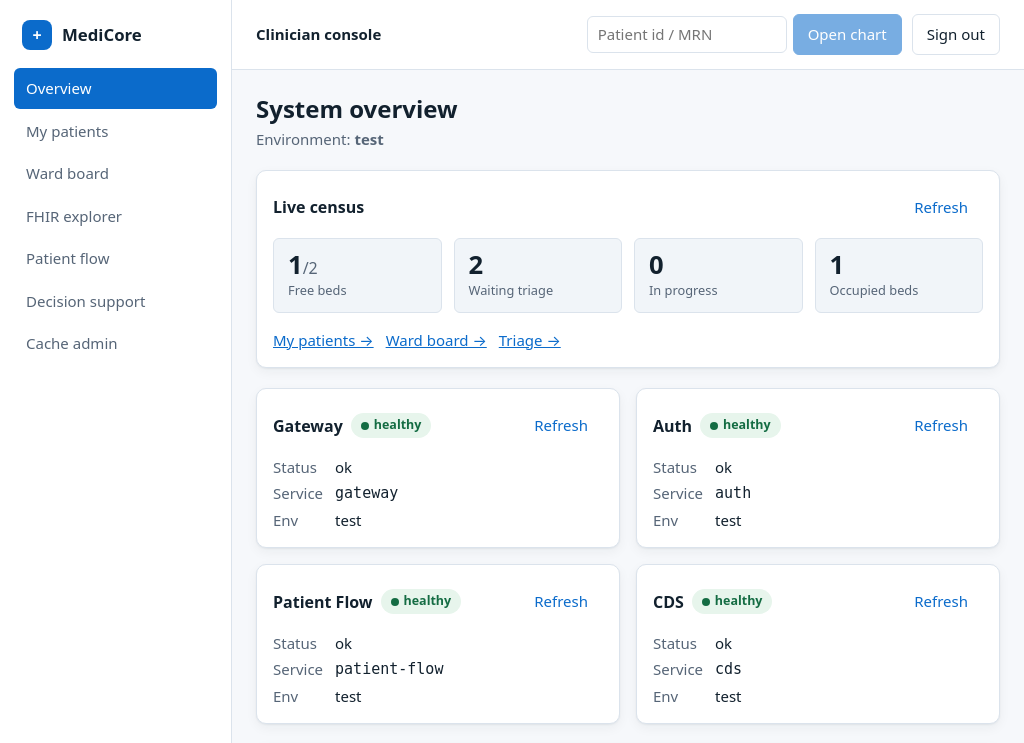
navigation › navigates between pages via the sidebar
Click the link "Patient flow": [68, 258] box [26,248,109,268]
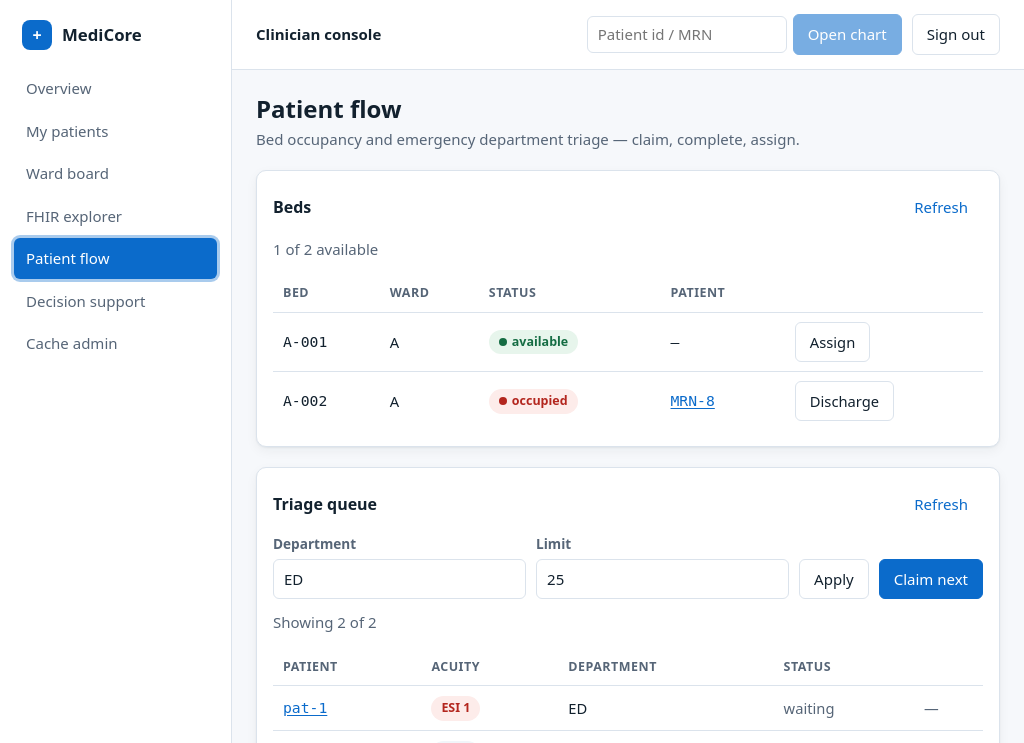
Result: the heading "Patient flow" is shown at [256,92,402,124]
